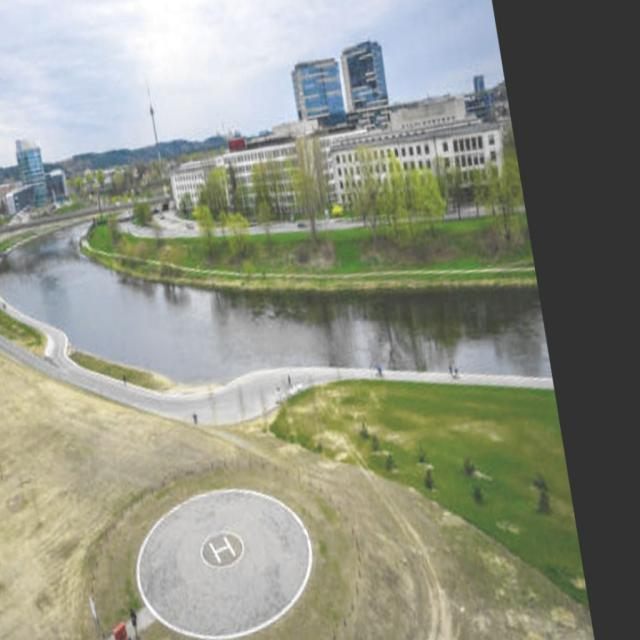helipad: (196, 527, 245, 570)
